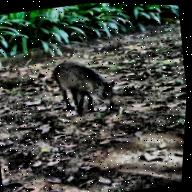boar: (47, 45, 128, 116)
